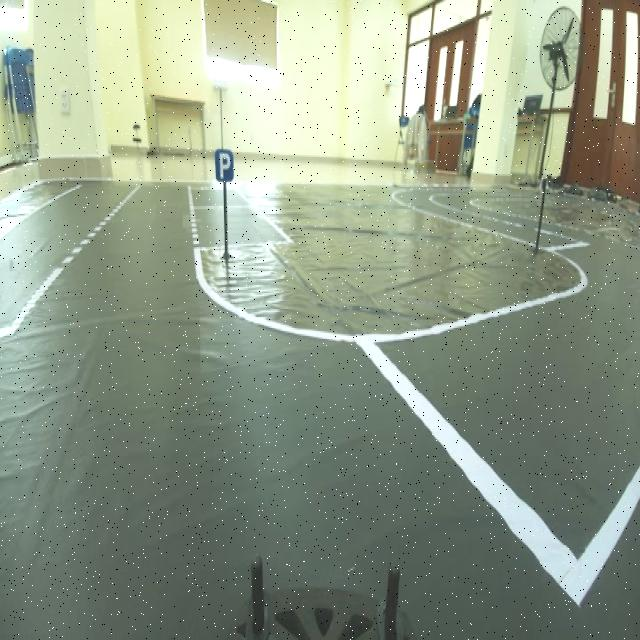parking: (215, 140, 237, 188)
